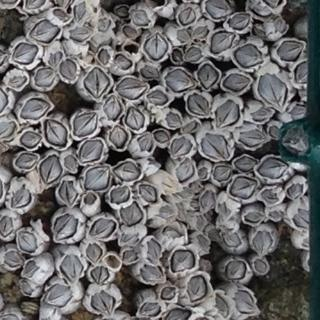Barnacle: (258, 70, 289, 109), (199, 133, 230, 160), (213, 99, 240, 129), (60, 253, 84, 285), (85, 68, 110, 98), (27, 21, 59, 44), (116, 77, 148, 99), (143, 32, 169, 59), (259, 157, 290, 179), (19, 98, 50, 120), (165, 69, 193, 93), (169, 249, 198, 272), (72, 113, 97, 139), (235, 43, 262, 67), (44, 285, 73, 307), (85, 165, 110, 190), (232, 177, 258, 201), (196, 63, 220, 89), (45, 119, 67, 147), (112, 162, 141, 183), (54, 214, 78, 239), (210, 30, 235, 54), (185, 275, 208, 301), (41, 155, 61, 183), (186, 93, 210, 116), (234, 290, 256, 315), (79, 140, 104, 162), (205, 0, 232, 20), (91, 291, 114, 314), (120, 202, 142, 226), (13, 43, 37, 65), (239, 129, 266, 148), (224, 73, 250, 92), (277, 42, 303, 60), (254, 230, 274, 253), (91, 218, 115, 237), (225, 261, 247, 281), (11, 185, 31, 207), (60, 179, 77, 204), (19, 231, 38, 253), (234, 156, 258, 173), (110, 125, 127, 149), (36, 69, 56, 89), (176, 159, 194, 181), (70, 25, 93, 42), (3, 249, 23, 268), (127, 106, 143, 129), (171, 137, 191, 155), (105, 95, 120, 119), (294, 60, 309, 84), (141, 265, 162, 282), (20, 131, 41, 148), (295, 209, 313, 228), (289, 104, 308, 122), (148, 88, 167, 106), (110, 186, 130, 203), (214, 295, 229, 317), (251, 107, 273, 122), (229, 14, 251, 29), (164, 308, 191, 320), (140, 184, 157, 203), (0, 215, 14, 237), (131, 9, 149, 26), (0, 121, 16, 140), (61, 60, 77, 79), (113, 53, 132, 69), (140, 301, 161, 315), (16, 154, 37, 168), (92, 266, 108, 284), (87, 243, 102, 262), (213, 166, 232, 181), (138, 134, 153, 153), (201, 191, 215, 211), (147, 238, 160, 258), (223, 233, 240, 248), (185, 46, 203, 60), (159, 205, 174, 221), (287, 183, 303, 198), (166, 112, 181, 128), (274, 16, 289, 32), (180, 8, 195, 24), (23, 261, 38, 276), (164, 226, 180, 240), (74, 1, 85, 21), (261, 189, 279, 201), (160, 288, 176, 301), (218, 202, 231, 218), (193, 25, 209, 38), (121, 233, 138, 245), (244, 212, 262, 223), (268, 125, 282, 139), (65, 156, 78, 171), (184, 120, 199, 133), (53, 10, 68, 23), (9, 76, 26, 87), (122, 251, 136, 264), (123, 26, 138, 38), (49, 51, 60, 67), (177, 29, 190, 42), (254, 260, 268, 272), (99, 17, 111, 31), (99, 48, 109, 64), (21, 281, 32, 295), (198, 237, 209, 251), (114, 7, 128, 17), (209, 230, 220, 242), (177, 188, 190, 198), (154, 131, 167, 141), (172, 49, 182, 62), (147, 158, 158, 168), (302, 237, 311, 249), (85, 194, 95, 204), (199, 167, 208, 177), (197, 217, 205, 228), (270, 212, 280, 220), (193, 184, 201, 194), (192, 199, 199, 209)
